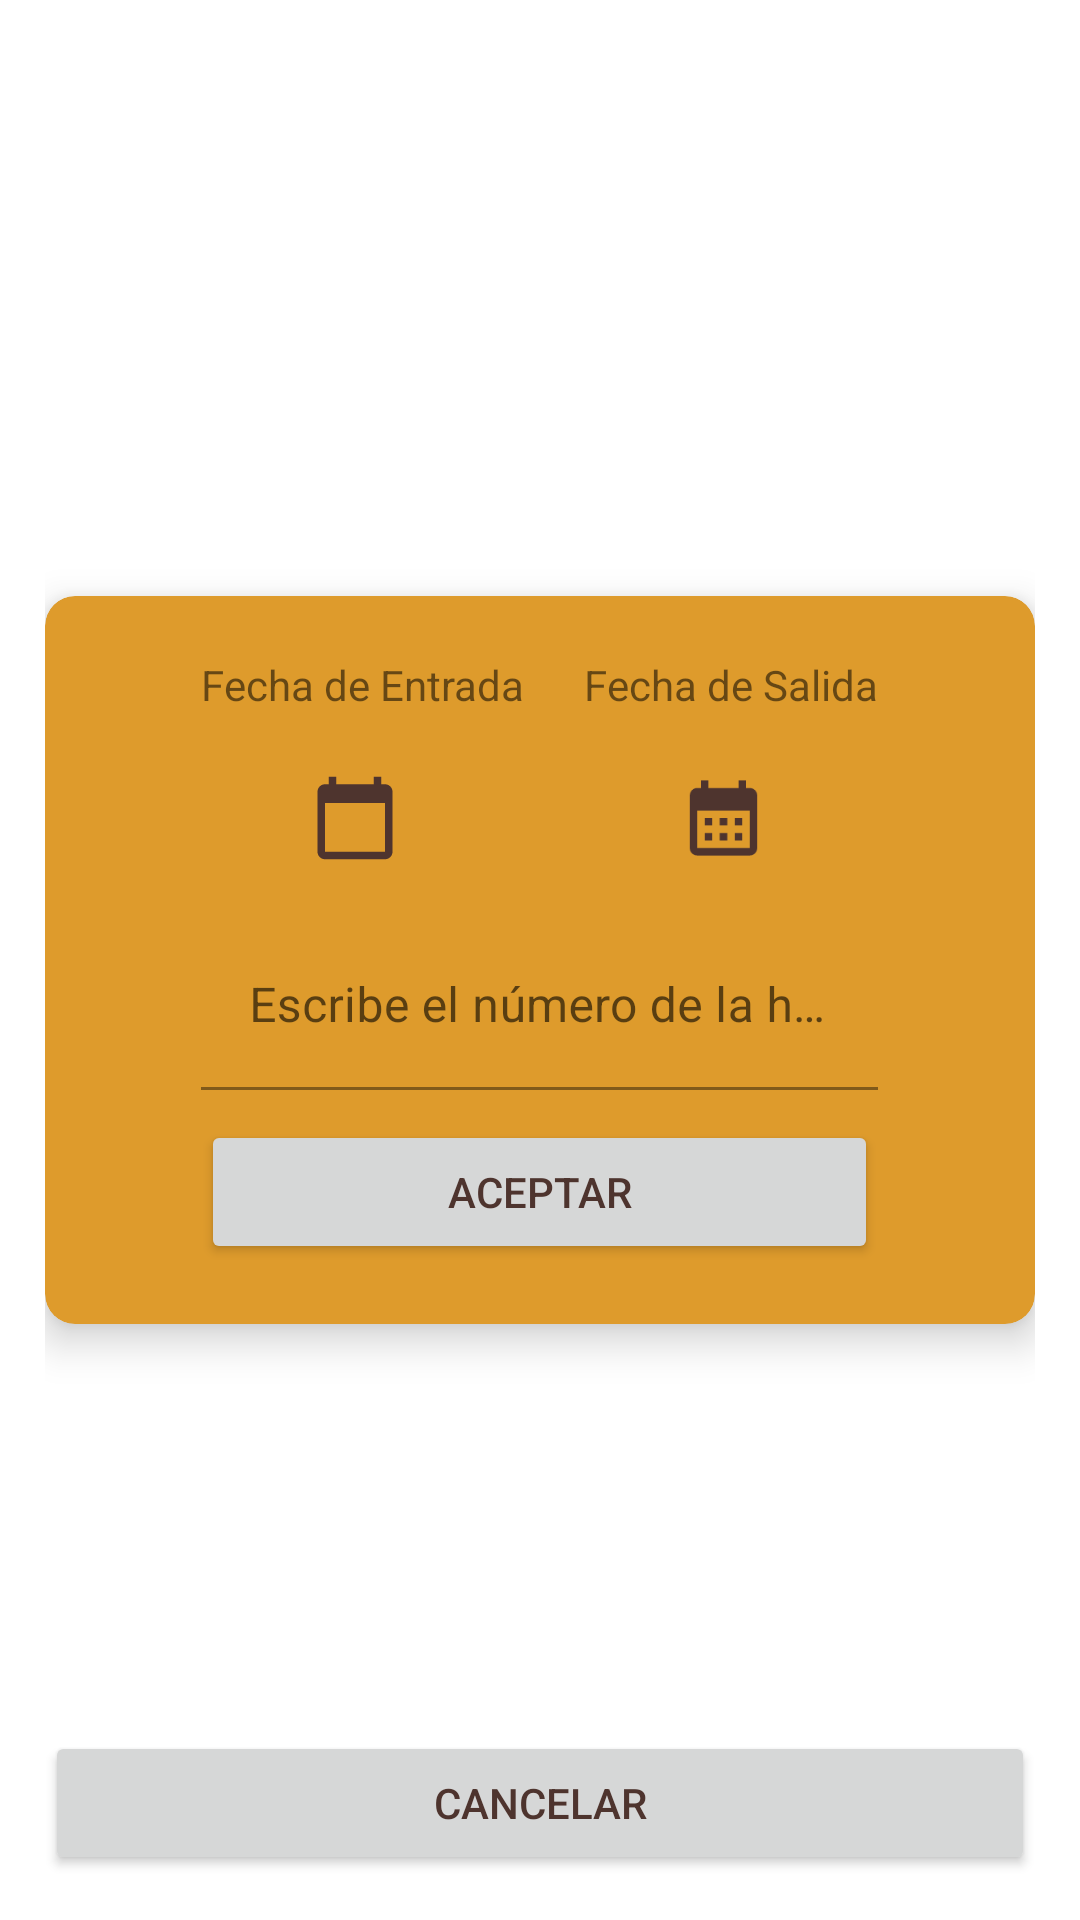

Icons on this 1080px x 1920px Android screen, each with the point to tap as [x,y]:
calendar: [355,818], [723,818]
